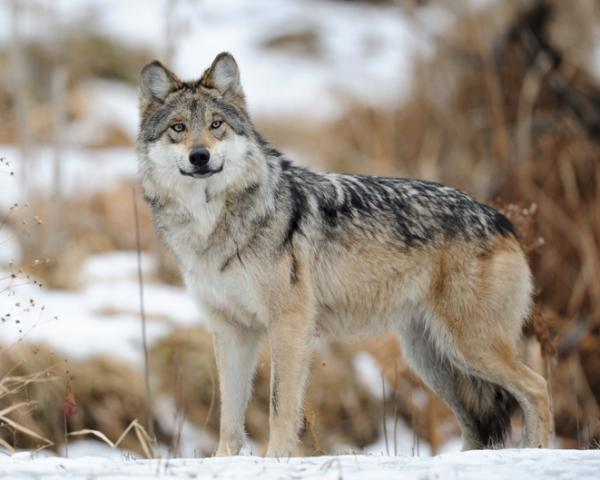Lobo: (117, 40, 566, 457)
